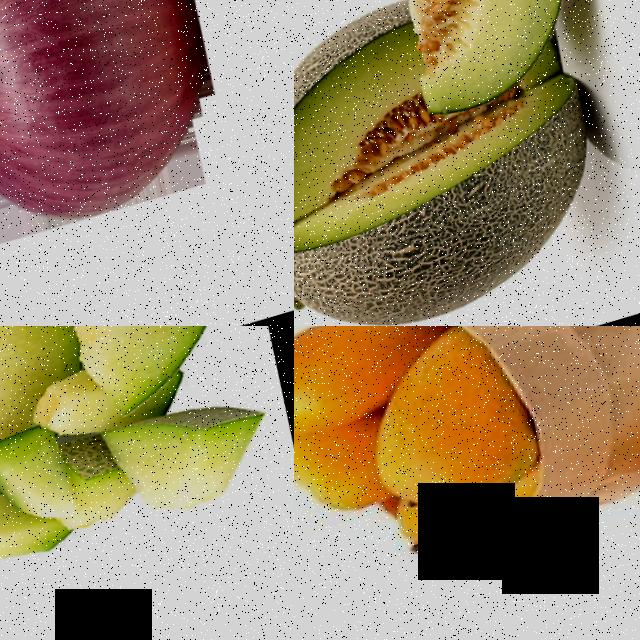mango: (364, 353, 559, 523), (294, 326, 434, 455)
melon: (294, 59, 640, 326), (294, 0, 508, 326), (331, 0, 624, 100)
onion: (0, 0, 281, 285)
